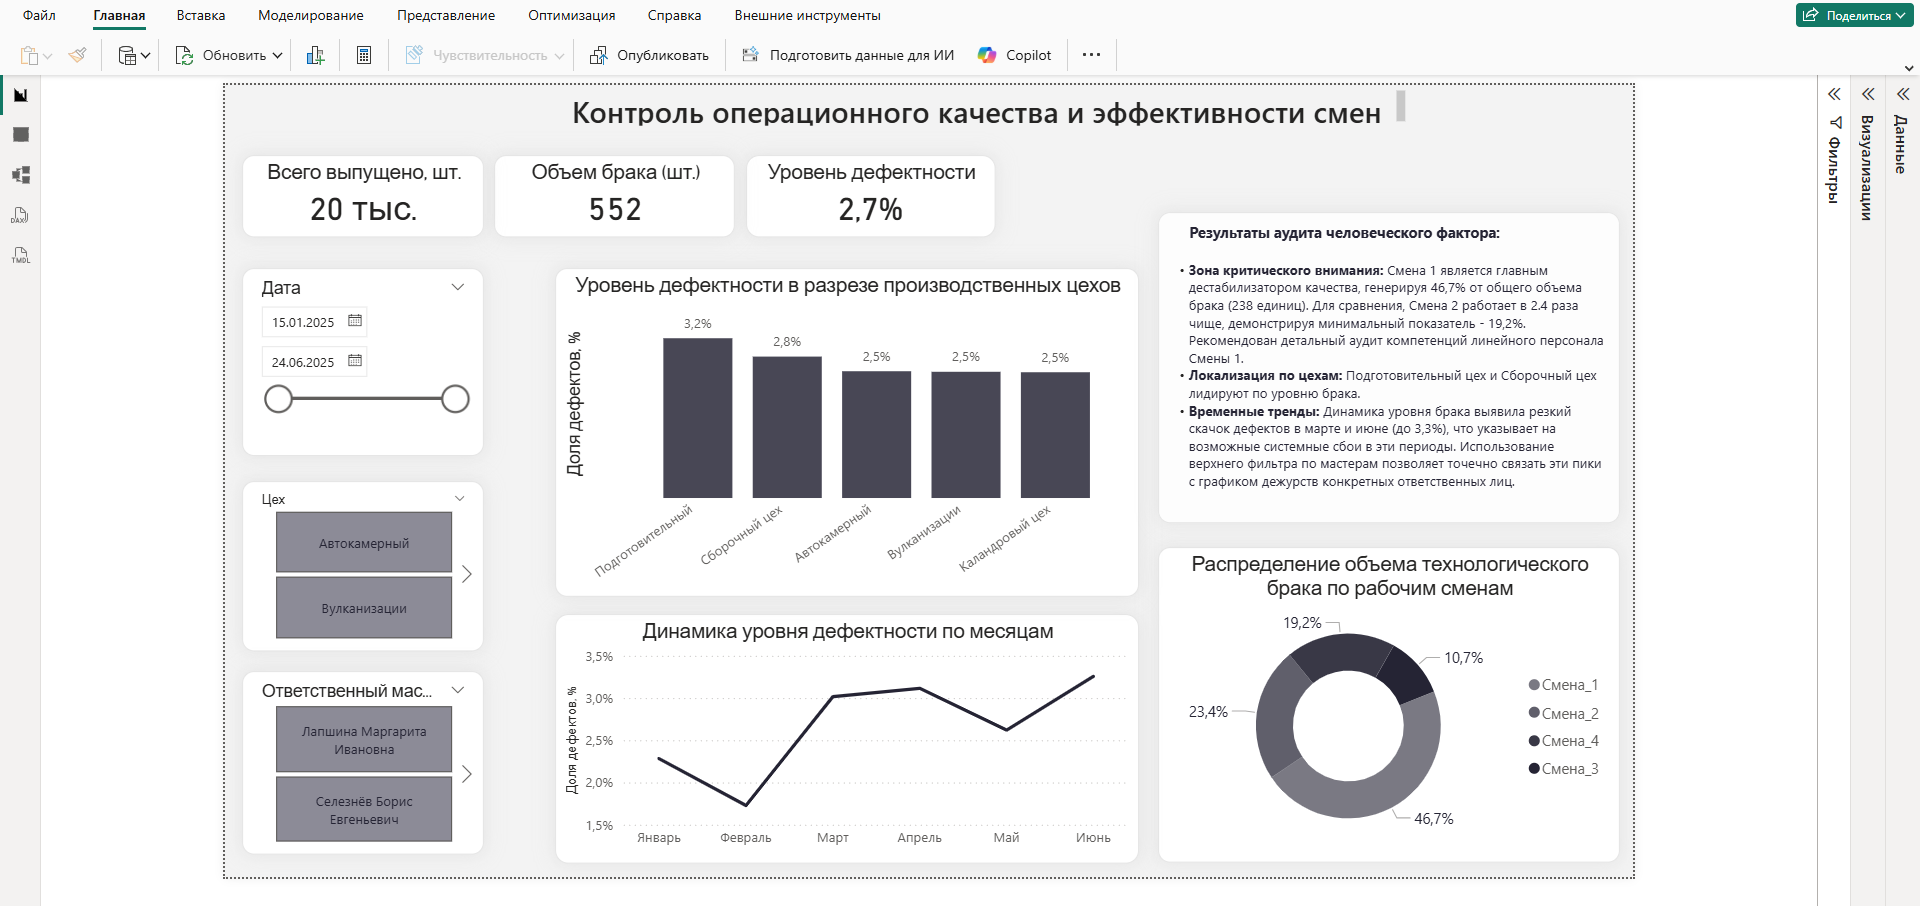

Layout of this report page (visuals, bound fields, positions):
{"tool":"powerbi","page":{"name":"Контроль смен и цехов","canvas":[1280,720],"ordinal":0},"visuals":[{"type":"card","title":"Уровень дефектности","fields":{"Values":["public v_quality_analysis.Defect Rate %"]},"box":[473.7,63.6,226.6,75.2],"z":0},{"type":"donutChart","title":"Распределение объема технологического брака по рабочим сменам","fields":{"Category":["public v_quality_analysis.shift"],"Y":["Sum(public v_quality_analysis.qty_bad)"]},"box":[848.1,420,420,287.5],"z":1000},{"type":"slicer","fields":{"Values":["public v_quality_analysis.ceh_name"]},"box":[15.2,360,220.3,154.9],"z":2000},{"type":"slicer","fields":{"Values":["public v_quality_analysis.report_date"]},"box":[15.2,166.6,220.3,171],"z":3000},{"type":"lineChart","title":"Динамика уровня дефектности по месяцам","fields":{"Y":["public v_quality_analysis.Defect Rate %"],"Category":["public v_quality_analysis.report_date.Изменение.Иерархия дат.Месяц"]},"box":[300,480.9,531,226.6],"z":4000},{"type":"columnChart","title":"Уровень дефектности в разрезе производственных цехов","fields":{"Category":["public v_quality_analysis.ceh_name"],"Y":["public v_quality_analysis.Defect Rate %"]},"box":[300,166.6,531,299.1],"z":5000},{"type":"textbox","box":[309.9,0,768.4,42.1],"z":6000},{"type":"slicer","fields":{"Values":["public v_quality_analysis.master_name"]},"box":[15.2,532.8,220.3,167.5],"z":7000},{"type":"card","title":"Объем брака (шт.)","fields":{"Values":["_Меры.Общий брак"]},"box":[244.5,63.6,219.4,75.2],"z":8000},{"type":"card","title":"Всего выпущено, шт.","fields":{"Values":["_Меры.Всего выпущено"]},"box":[15.2,63.6,220.3,75.2],"z":9000},{"type":"textbox","box":[848.1,115.5,420,283],"z":10000}]}

Visuals, with their boxes on the page's 1280x720 design canvas (x1, y1, x2, y2). These are canvas units, not pixel positions in the 1920x906 screenshot, which may show the page scaled, cropped or inside an application window:
"Уровень дефектности" card: (x1=474, y1=64, x2=700, y2=139)
"Распределение объема технологического брака по рабочим сменам" donutChart: (x1=848, y1=420, x2=1268, y2=708)
slicer - public v_quality_analysis.ceh_name: (x1=15, y1=360, x2=236, y2=515)
slicer - public v_quality_analysis.report_date: (x1=15, y1=167, x2=236, y2=338)
"Динамика уровня дефектности по месяцам" lineChart: (x1=300, y1=481, x2=831, y2=708)
"Уровень дефектности в разрезе производственных цехов" columnChart: (x1=300, y1=167, x2=831, y2=466)
textbox: (x1=310, y1=0, x2=1078, y2=42)
slicer - public v_quality_analysis.master_name: (x1=15, y1=533, x2=236, y2=700)
"Объем брака (шт.)" card: (x1=244, y1=64, x2=464, y2=139)
"Всего выпущено, шт." card: (x1=15, y1=64, x2=236, y2=139)
textbox: (x1=848, y1=116, x2=1268, y2=398)
